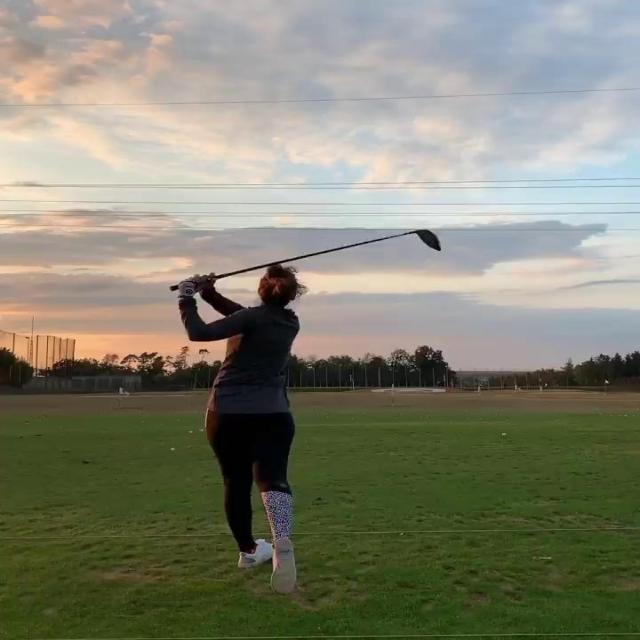ClubHead: (417, 230, 441, 250)
